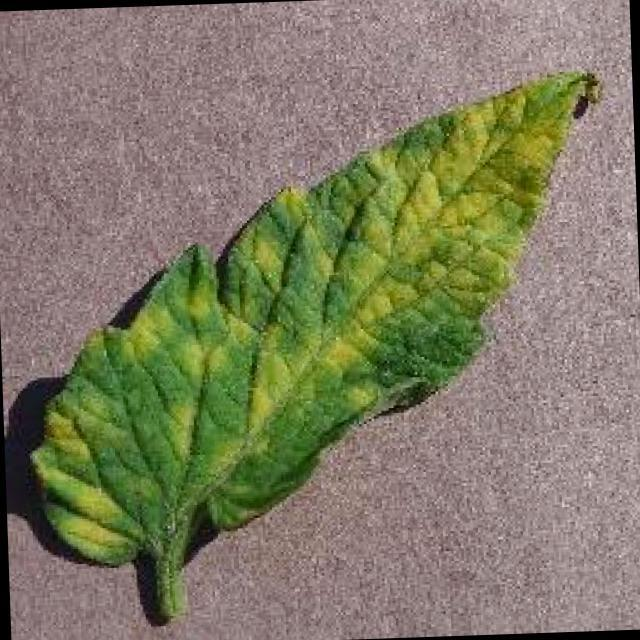Tomato mold leaf: (21, 72, 615, 568)
